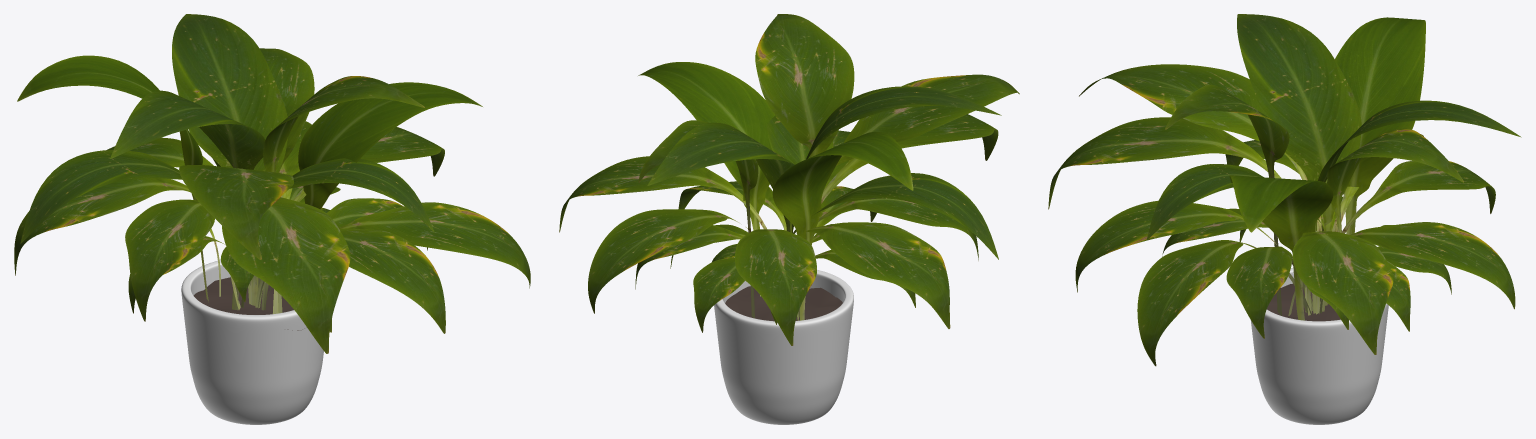
The model's file is plant.glb.
3 views of the same model, side by side, from view 1: azimuth 30°, elevation 25°; view 2: azimuth 150°, elevation 25°; view 3: azimuth 270°, elevation 25° (orthographic). The views are drawn at different scales.
Parts seen in each view (by area): view 1: Cylinder.001, Plane.002, Plane.006, Plane.003, Plane.011, Plane, Plane.024, Plane.007, Plane.019, Plane.005, Plane.013, Plane.014 (+10 smaller); view 2: Cylinder.001, Plane.004, Plane.014, Plane.003, Plane.013, Plane.012, Plane.009, Plane.007, Plane.002, Plane.005, Plane.008, Plane (+10 smaller); view 3: Plane, Cylinder.001, Plane.013, Plane.008, Plane.006, Plane.011, Plane.007, Plane.003, Plane.009, Plane.019, Plane.010, Plane.001 (+9 smaller).
Part boxes in pixels (bbox=[...]): Cylinder.001: bbox=[181, 260, 323, 424]; Plane.002: bbox=[172, 14, 287, 305]; Plane.006: bbox=[222, 197, 350, 353]; Plane.003: bbox=[298, 82, 482, 209]; Plane.011: bbox=[265, 202, 530, 303]; Plane: bbox=[110, 90, 265, 310]; Plane.024: bbox=[125, 199, 214, 321]; Plane.007: bbox=[179, 165, 293, 285]; Plane.019: bbox=[255, 228, 445, 333]; Plane.005: bbox=[20, 150, 244, 307]; Plane.013: bbox=[17, 55, 208, 302]; Plane.014: bbox=[14, 177, 190, 275]; Cylinder.001: bbox=[714, 270, 853, 424]; Plane.004: bbox=[755, 14, 854, 157]; Plane.014: bbox=[805, 222, 950, 328]; Plane.003: bbox=[638, 62, 775, 296]; Plane.013: bbox=[772, 131, 913, 320]; Plane.012: bbox=[735, 229, 816, 345]; Plane.009: bbox=[588, 209, 751, 313]; Plane.007: bbox=[835, 74, 1019, 166]; Plane.002: bbox=[647, 122, 794, 232]; Plane.005: bbox=[793, 173, 998, 259]; Plane.008: bbox=[559, 156, 766, 232]; Plane: bbox=[789, 86, 1001, 320]; Plane: bbox=[1237, 14, 1361, 305]; Cylinder.001: bbox=[1250, 268, 1388, 424]; Plane.013: bbox=[1335, 17, 1425, 234]; Plane.008: bbox=[1292, 231, 1393, 354]; Plane.006: bbox=[1048, 117, 1318, 313]; Plane.011: bbox=[1137, 240, 1311, 366]; Plane.007: bbox=[1079, 64, 1307, 180]; Plane.003: bbox=[1229, 175, 1333, 320]; Plane.009: bbox=[1288, 222, 1515, 315]; Plane.019: bbox=[1075, 200, 1313, 311]; Plane.010: bbox=[1226, 246, 1312, 338]; Plane.001: bbox=[1327, 128, 1463, 232].
Size of the model in its own units: 0.5252 by 0.3949 by 0.5171.
3 materials, 1 textured.
